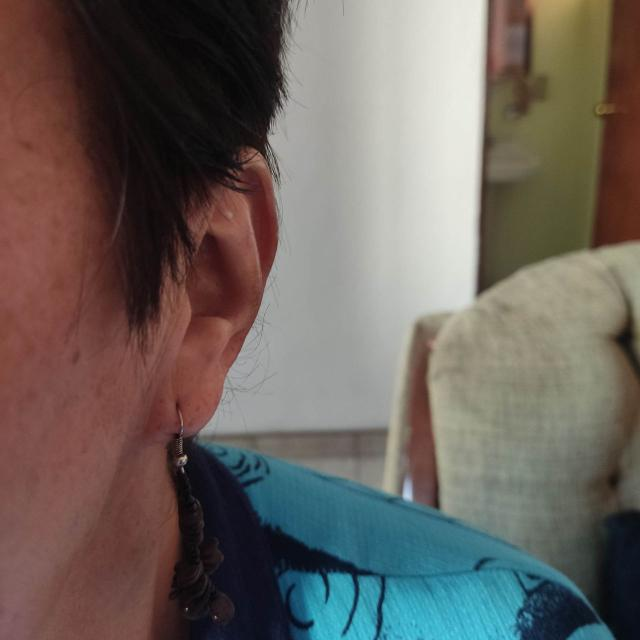ear: (152, 150, 278, 442)
